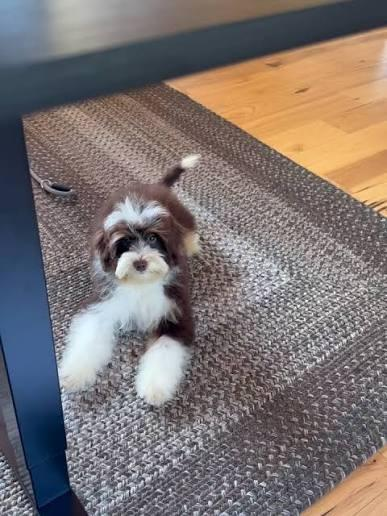puppy-dog: (54, 153, 201, 405)
